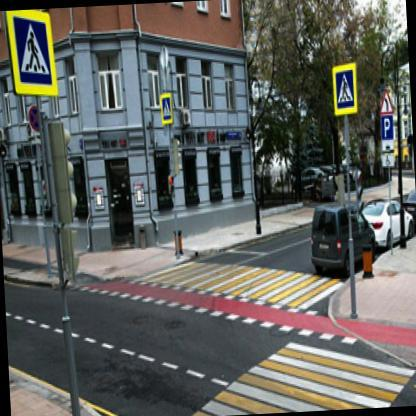obstructed_road_sign: (29, 106, 40, 130)
road_sign: (4, 10, 58, 96), (333, 63, 356, 114), (378, 87, 396, 113), (160, 92, 173, 125), (380, 115, 393, 140), (379, 153, 397, 168), (381, 140, 394, 152)
